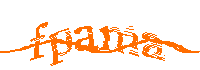a: (142, 31, 165, 60), (74, 24, 96, 51)
f: (30, 22, 48, 60)
m: (99, 25, 139, 56)
p: (49, 26, 74, 67)
